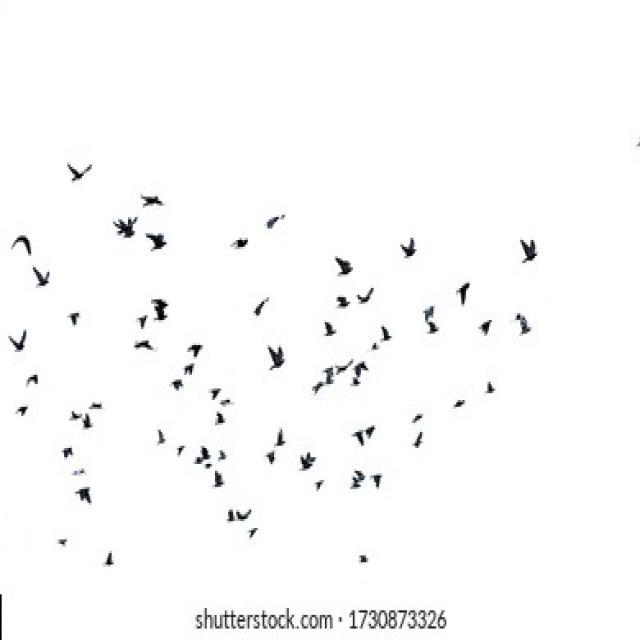bird: (315, 208, 361, 288), (306, 350, 372, 398), (257, 186, 293, 253), (232, 264, 272, 321), (258, 316, 292, 380), (393, 201, 426, 258), (50, 146, 93, 188), (294, 426, 330, 476), (59, 286, 92, 340), (2, 209, 36, 260), (510, 212, 540, 268), (406, 403, 434, 463), (140, 220, 172, 268), (466, 303, 496, 353), (476, 373, 509, 418), (222, 499, 260, 538), (218, 230, 250, 276), (126, 278, 155, 328), (130, 183, 170, 219), (351, 535, 381, 583), (351, 406, 384, 447), (4, 316, 29, 370), (149, 280, 176, 330), (100, 209, 138, 244), (209, 386, 236, 434), (188, 433, 230, 463), (514, 304, 540, 352), (452, 272, 480, 316), (369, 321, 392, 369), (422, 300, 444, 348), (342, 461, 365, 506), (80, 392, 110, 424), (127, 326, 157, 358), (181, 344, 206, 381), (148, 414, 170, 452), (52, 536, 78, 568), (98, 545, 120, 582), (204, 372, 224, 412), (322, 302, 340, 346), (32, 264, 57, 294), (76, 465, 95, 504), (12, 394, 32, 431), (268, 412, 286, 452), (356, 273, 378, 305), (206, 462, 231, 489), (58, 442, 80, 472), (186, 319, 202, 360), (78, 408, 99, 436), (164, 370, 184, 398), (259, 438, 276, 468), (364, 471, 386, 494), (444, 398, 472, 416), (28, 361, 46, 384), (66, 396, 83, 420), (336, 298, 354, 319), (170, 446, 186, 468), (310, 479, 328, 497)
